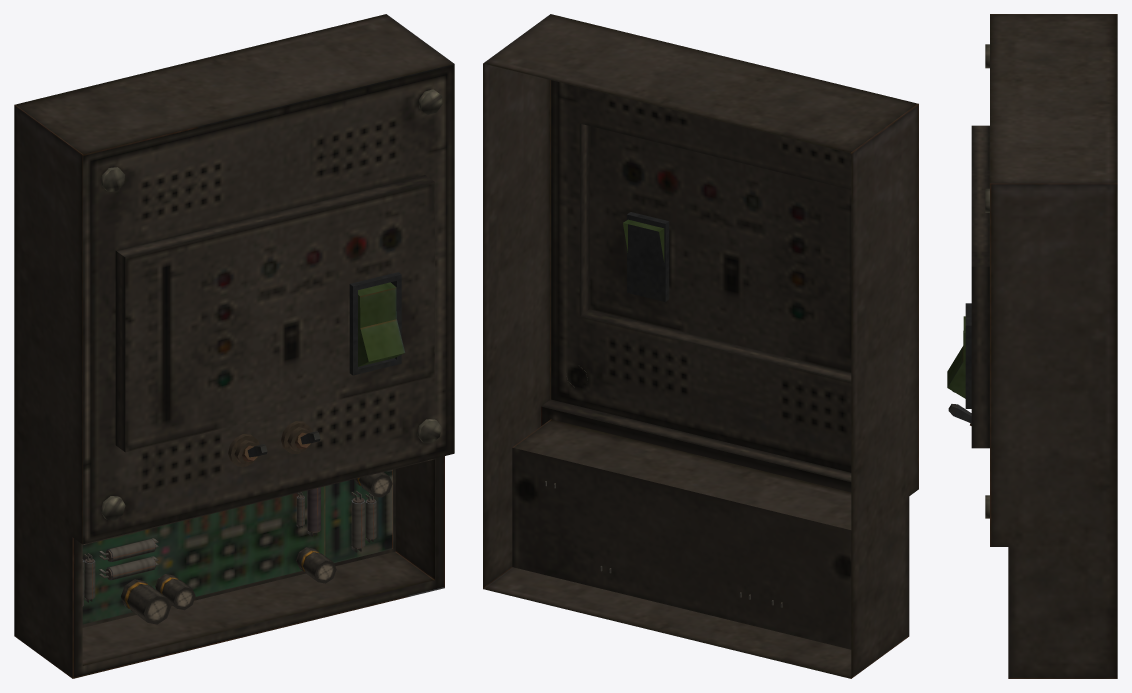
Rendered from panel_etx_1_2.obj.
The picture shows the model from 3 angles, left to right: view 1: azimuth 30°, elevation 25°; view 2: azimuth 150°, elevation 25°; view 3: azimuth 270°, elevation 25°; orthographic projection. The views are drawn at different scales.
Visible parts, largest first — view 1: panel_etx_1_2, panel_etx_1_2_button_child; view 2: panel_etx_1_2; view 3: panel_etx_1_2, panel_etx_1_2_button_child, panel_etx_1_2_switch_child_2.
Part boxes in pixels (left/top/right/bottom): panel_etx_1_2: left=14, top=14, right=454, bottom=678; panel_etx_1_2_button_child: left=358, top=282, right=405, bottom=366; panel_etx_1_2: left=483, top=14, right=918, bottom=678; panel_etx_1_2: left=965, top=14, right=1117, bottom=678; panel_etx_1_2_button_child: left=947, top=316, right=965, bottom=398; panel_etx_1_2_switch_child_2: left=948, top=404, right=971, bottom=425.
Size of the model in its own units: 0.44 by 0.6 by 0.1866.
